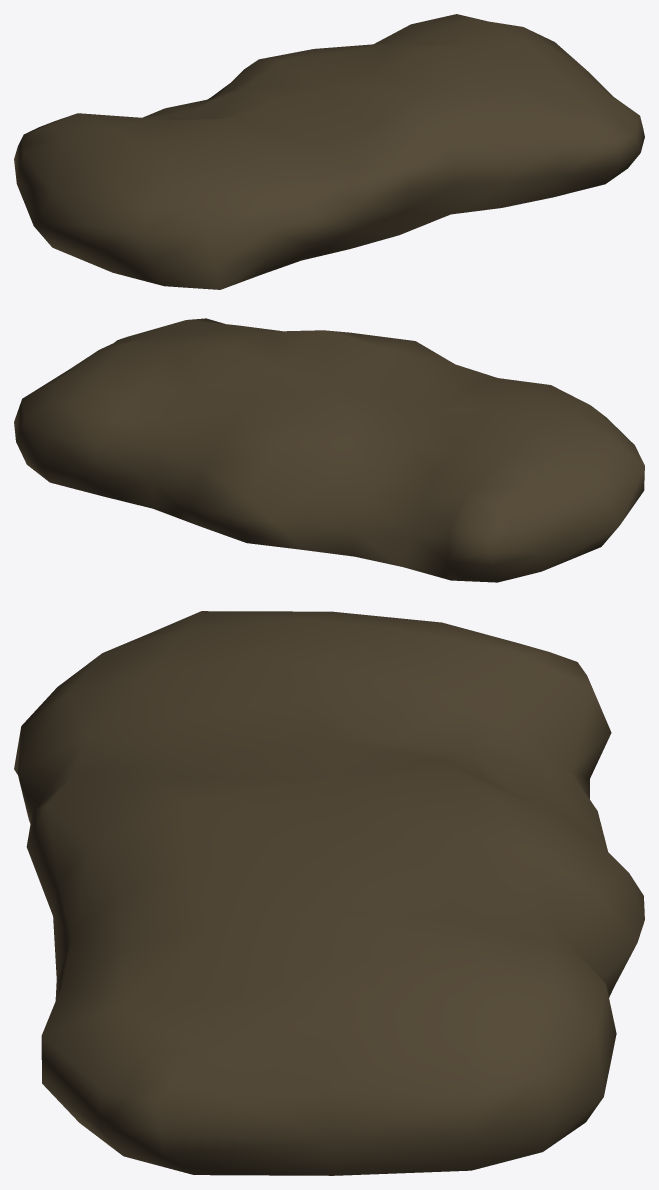
The model's file is grab.fbx.
3 renders of one model, top to bottom at view 1: azimuth 30°, elevation 25°; view 2: azimuth 150°, elevation 25°; view 3: azimuth 270°, elevation 25°, orthographic. The views are drawn at different scales.
Visible parts, largest first — view 1: grab; view 2: grab; view 3: grab.
Part boxes in pixels (box(x1,y1,x2,y2)): grab: box(14, 14, 644, 289); grab: box(14, 318, 644, 582); grab: box(14, 611, 644, 1175).
Size of the model in its own units: 76.26 by 14.25 by 42.09.
